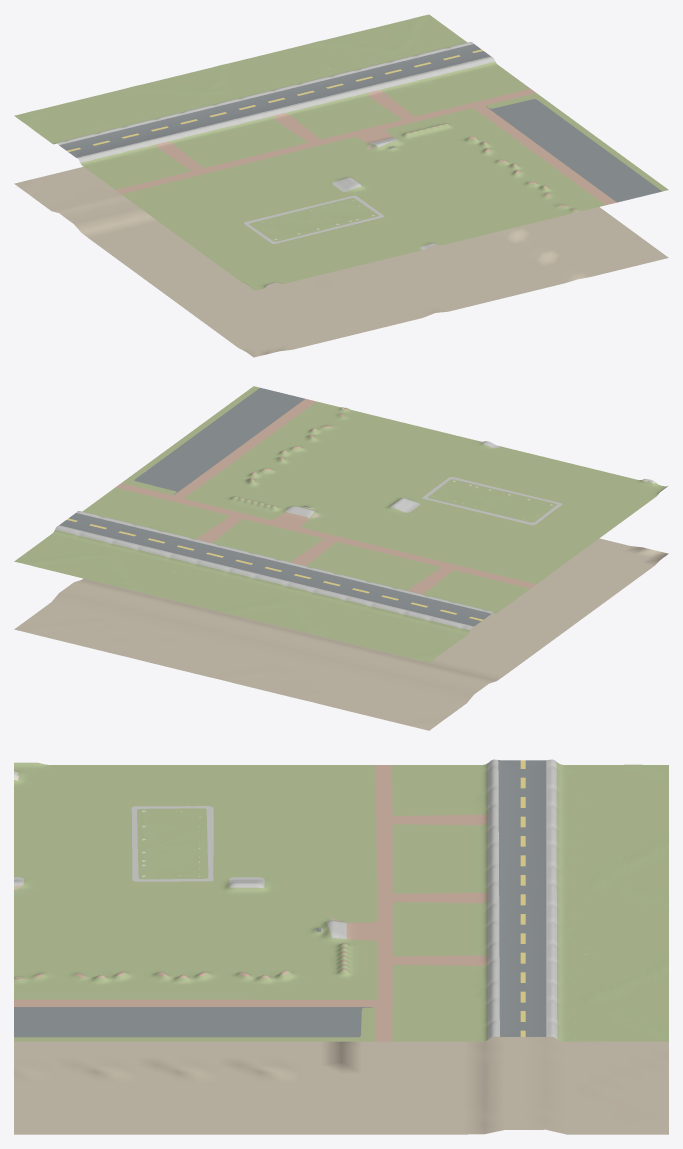
The picture shows the model from 3 angles, top to bottom: view 1: azimuth 30°, elevation 25°; view 2: azimuth 150°, elevation 25°; view 3: azimuth 270°, elevation 25°; orthographic projection. The views are drawn at different scales.
Visible parts, largest first — view 1: s_-10_0__grass, s_-10_0__soil, s_-10_0__asphalt, s_-10_0__brick_paving, s_-10_0__stone_paving, s_-10_0__yellow_marking; view 2: s_-10_0__grass, s_-10_0__soil, s_-10_0__asphalt, s_-10_0__brick_paving, s_-10_0__stone_paving, s_-10_0__yellow_marking; view 3: s_-10_0__grass, s_-10_0__soil, s_-10_0__asphalt, s_-10_0__brick_paving, s_-10_0__stone_paving, s_-10_0__yellow_marking.
Part boxes in pixels (x1,y1,x2,y2): s_-10_0__grass: (14, 14, 668, 290); s_-10_0__soil: (14, 128, 668, 357); s_-10_0__asphalt: (59, 44, 661, 202); s_-10_0__brick_paving: (116, 88, 616, 211); s_-10_0__stone_paving: (57, 42, 495, 285); s_-10_0__yellow_marking: (67, 49, 483, 151); s_-10_0__grass: (14, 386, 667, 662); s_-10_0__soil: (14, 441, 668, 730); s_-10_0__asphalt: (59, 387, 490, 626); s_-10_0__brick_paving: (115, 399, 535, 594); s_-10_0__stone_paving: (55, 441, 654, 630); s_-10_0__yellow_marking: (66, 518, 482, 620); s_-10_0__grass: (14, 762, 668, 1041); s_-10_0__soil: (14, 883, 668, 1134); s_-10_0__asphalt: (14, 760, 546, 1037); s_-10_0__brick_paving: (14, 765, 487, 1041); s_-10_0__stone_paving: (14, 759, 557, 1039); s_-10_0__yellow_marking: (520, 760, 525, 1036).
Size of the model in its own units: 128 by 21.22 by 128.
